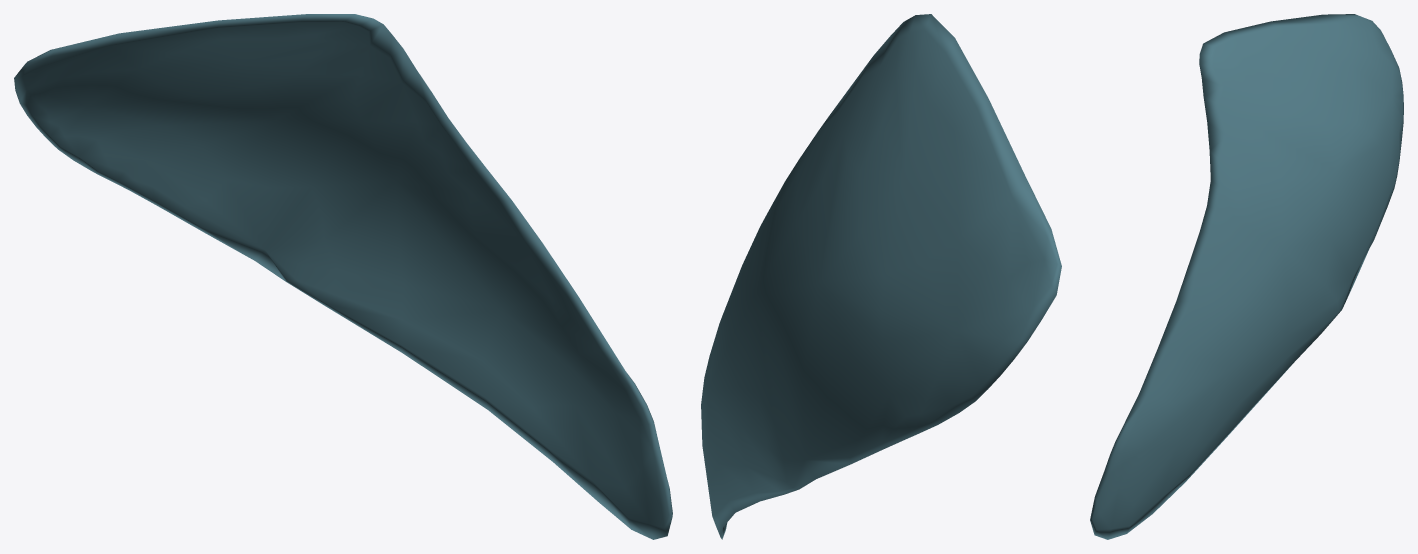
File: Gluteus_medius_on_greater_trochanter.l_Generated_Mesh_From_X3D..glb
The picture shows the model from 3 angles, left to right: view 1: azimuth 30°, elevation 25°; view 2: azimuth 150°, elevation 25°; view 3: azimuth 270°, elevation 25°; orthographic projection. The views are drawn at different scales.
Parts seen in each view (by area): view 1: Gluteus_medius_on_greater_trochanter.l_Generated_Mesh_From_X; view 2: Gluteus_medius_on_greater_trochanter.l_Generated_Mesh_From_X; view 3: Gluteus_medius_on_greater_trochanter.l_Generated_Mesh_From_X.
Boxes of the visible parts, left/top/right/bottom form: Gluteus_medius_on_greater_trochanter.l_Generated_Mesh_From_X: left=14, top=14, right=672, bottom=539; Gluteus_medius_on_greater_trochanter.l_Generated_Mesh_From_X: left=701, top=14, right=1061, bottom=539; Gluteus_medius_on_greater_trochanter.l_Generated_Mesh_From_X: left=1090, top=14, right=1403, bottom=539.
Size of the model in its own units: 0.0238 by 0.0261 by 0.0182.
